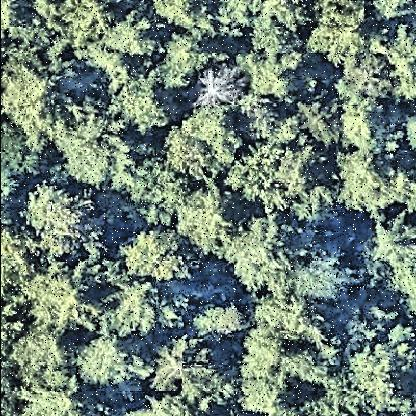tree-top: (239, 299, 323, 416), (325, 318, 416, 416), (56, 93, 138, 196), (222, 136, 314, 219), (165, 100, 243, 188), (23, 255, 102, 333), (2, 59, 68, 151), (226, 219, 300, 300), (24, 183, 99, 259), (230, 43, 311, 103), (306, 2, 379, 68), (112, 280, 188, 342), (121, 158, 189, 226), (122, 230, 203, 286), (28, 1, 111, 53), (9, 325, 72, 388), (174, 187, 232, 255), (336, 149, 396, 213), (75, 338, 145, 391), (294, 249, 356, 307), (112, 78, 172, 136), (182, 348, 236, 412), (249, 1, 311, 56), (375, 25, 416, 105), (101, 10, 154, 71), (155, 36, 211, 93), (294, 87, 347, 147), (3, 119, 41, 202), (368, 209, 416, 271), (338, 57, 390, 111), (154, 2, 222, 42), (192, 301, 249, 345), (195, 65, 249, 111), (383, 250, 416, 318), (336, 113, 388, 155), (13, 384, 77, 416), (381, 162, 416, 213), (244, 101, 283, 144)
